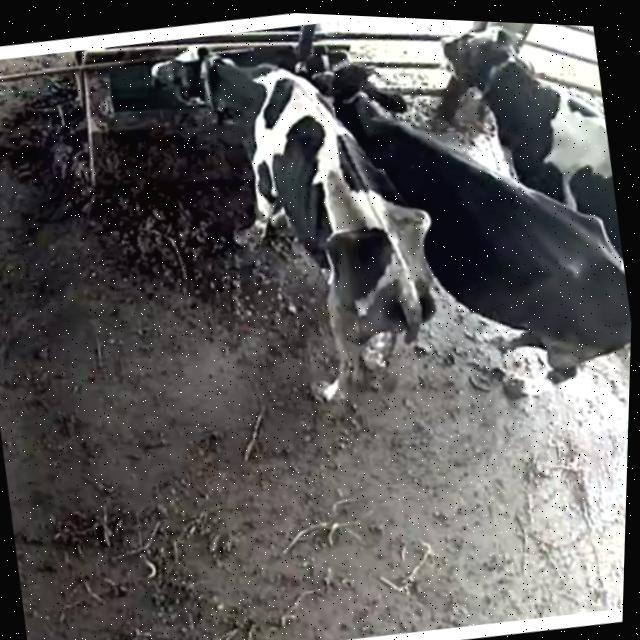drink: (114, 22, 336, 207)
